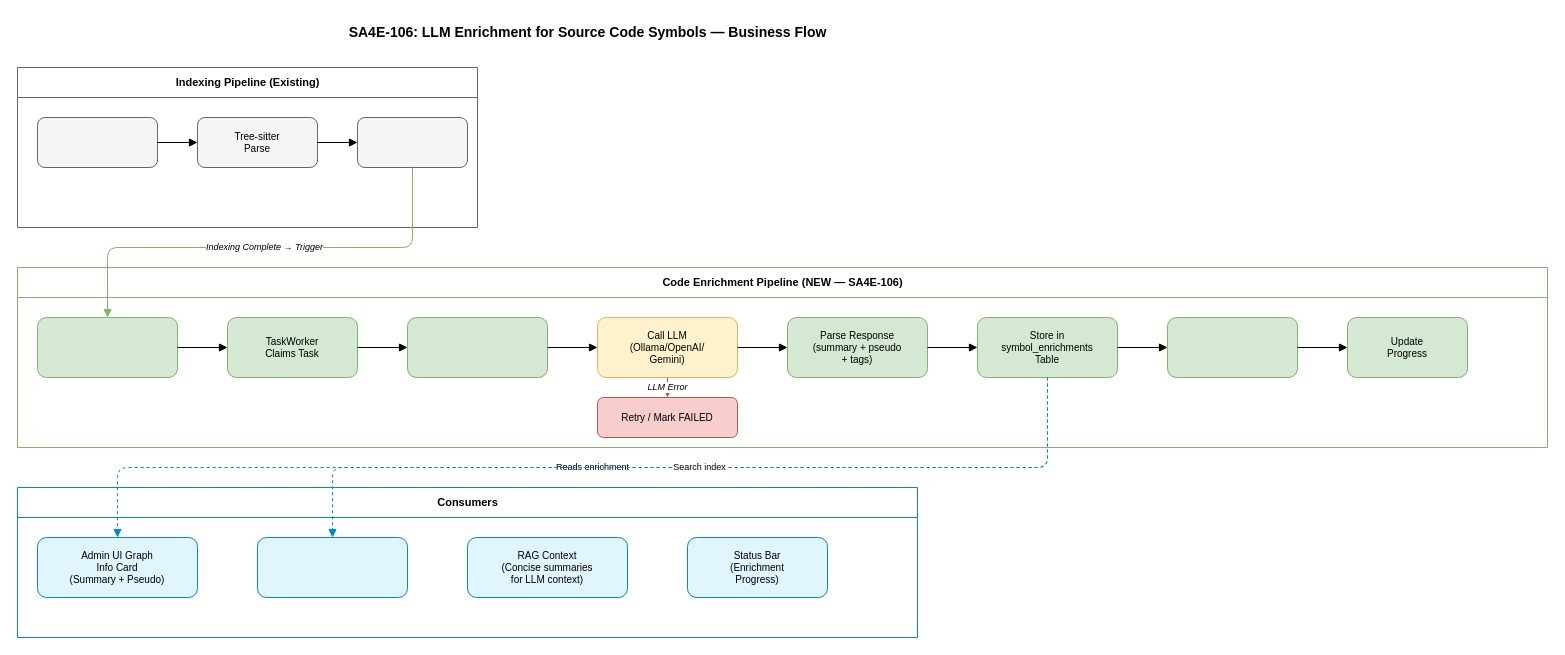
This 1565x655 diagram has some shape labels left out. Here are the shapes that lost their labels. From the top down, the centre of each, then its label:
At (97,142): "File Change Detected".
At (412,142): "Store symbols + body_embeddings".
At (107,347): "Enqueue CODE_ENRICHMENT Tasks".
At (477,347): "Assemble LLM Prompt (symbol + body)".
At (1232,347): "Mark Task COMPLETED".
At (332,567): "Code Search (Tag-enhanced ranking)".
